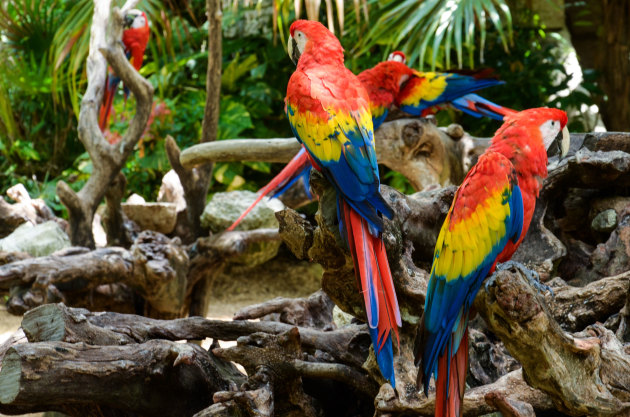Lapa: (402, 112, 583, 417), (275, 15, 402, 377)
